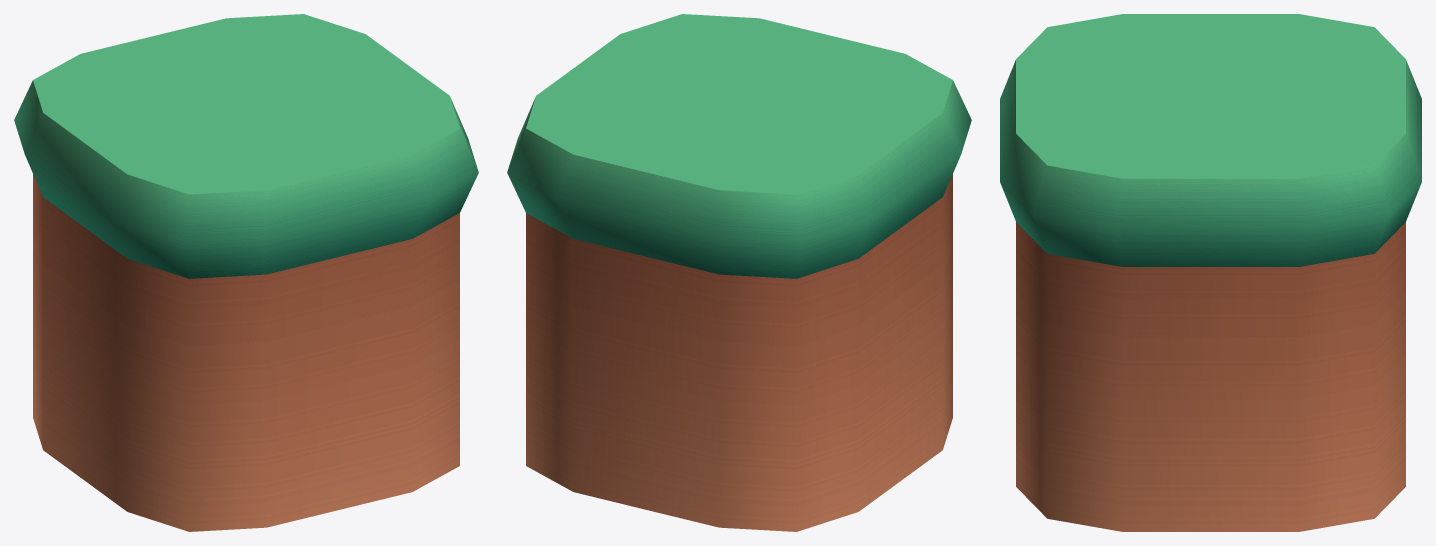
Rendered from block-grass.glb.
The picture shows the model from 3 angles, left to right: view 1: azimuth 30°, elevation 25°; view 2: azimuth 150°, elevation 25°; view 3: azimuth 270°, elevation 25°; orthographic projection. The views are drawn at different scales.
Parts seen in each view (by area): view 1: block-grass; view 2: block-grass; view 3: block-grass.
Boxes of the visible parts, x1,y1,x2,y2 form: block-grass: [14, 14, 478, 531]; block-grass: [507, 14, 971, 531]; block-grass: [1000, 14, 1421, 531].
Size of the model in its own units: 1.08 by 1 by 1.08.
Materials: 1 (1 with a texture image).
